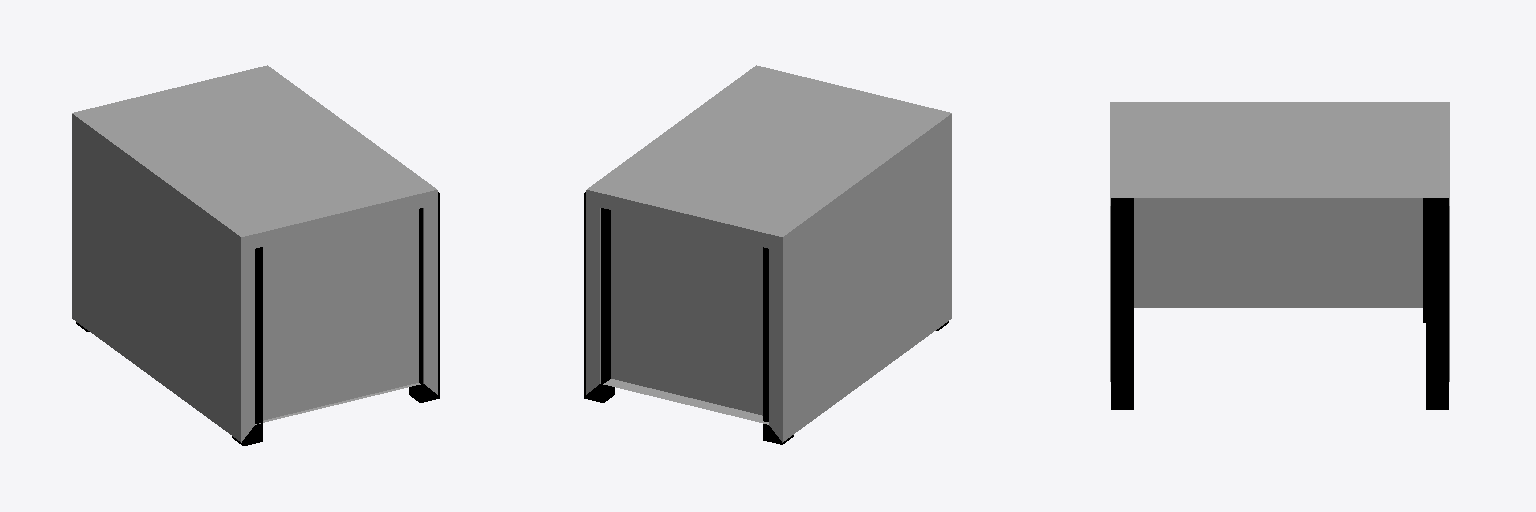
The model's file is desk.obj.
3 renders of one model, left to right at view 1: azimuth 30°, elevation 25°; view 2: azimuth 150°, elevation 25°; view 3: azimuth 270°, elevation 25°, orthographic.
Visible parts, largest first — view 1: Box, Box4, Box3; view 2: Box, Box1, Box2; view 3: Box, Box1, Box3.
Part boxes in pixels (x1,y1,x2,y2): Box: (72, 65, 437, 442); Box4: (232, 247, 262, 445); Box3: (409, 192, 439, 402); Box: (586, 65, 951, 442); Box1: (584, 192, 614, 402); Box2: (763, 247, 793, 444); Box: (1110, 102, 1449, 381); Box1: (1426, 198, 1448, 409); Box3: (1111, 198, 1133, 409).
Bounding box in the file's own units: 1.01 × 1.02 × 1.5.